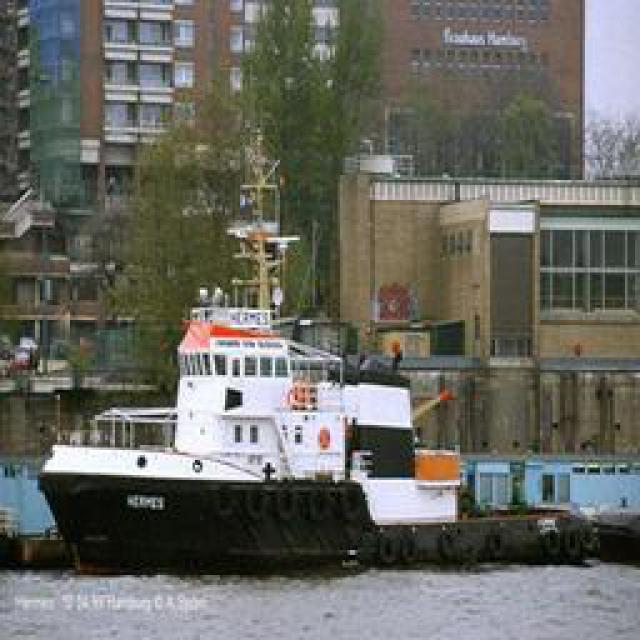Ship: (34, 235, 524, 573)
